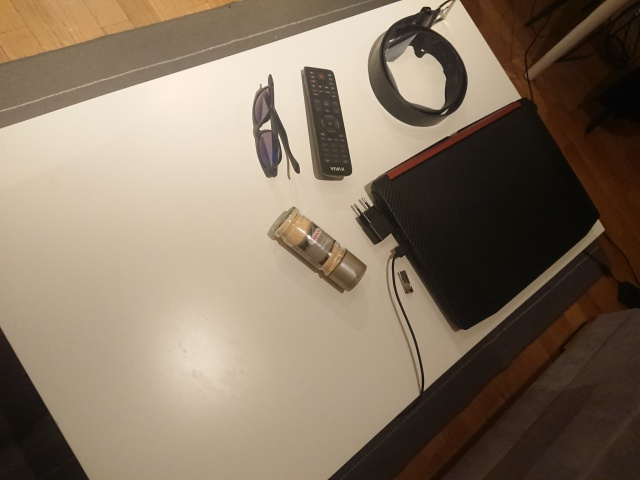Kotanyi Garlic Granules 70g: (271, 205, 369, 293)
